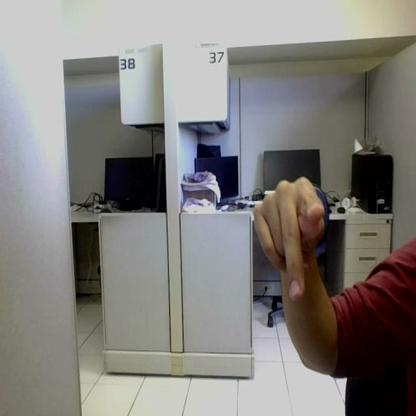P: (255, 177, 324, 299)
